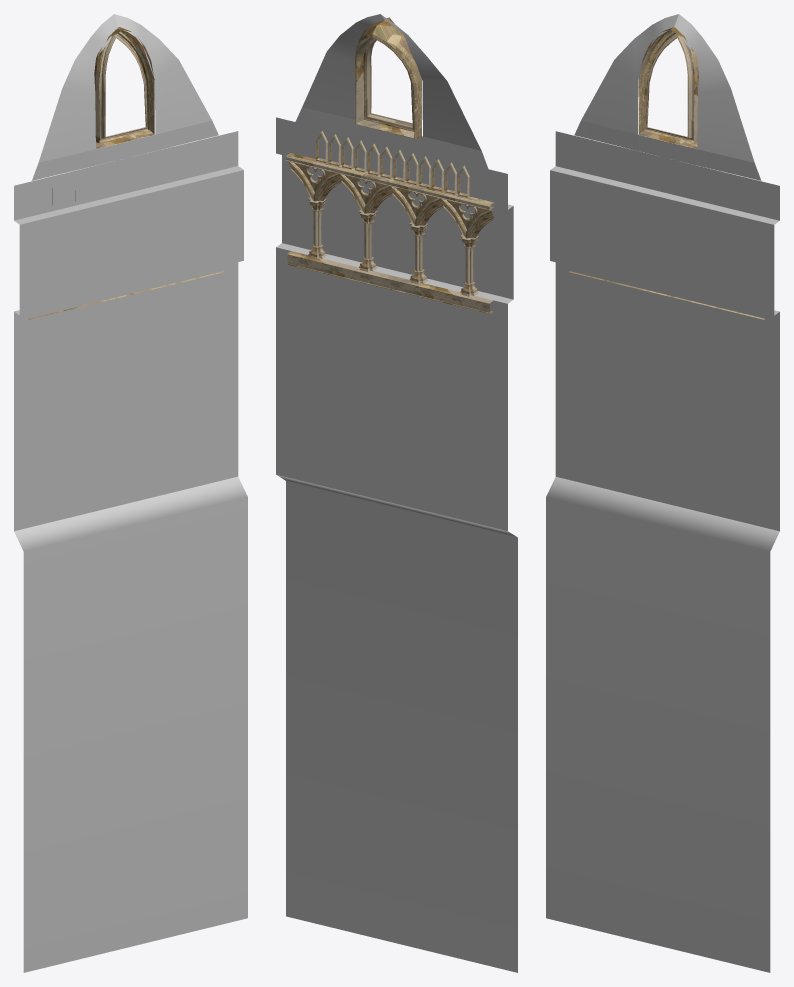
File: SM_wall_02.fbx
3 views of the same model, side by side, from view 1: azimuth 30°, elevation 25°; view 2: azimuth 150°, elevation 25°; view 3: azimuth 330°, elevation 25° (orthographic). The views are drawn at different scales.
Visible parts, largest first — view 1: polySurface32424; view 2: polySurface32424; view 3: polySurface32424.
Part boxes in pixels (x1,y1,x2,y2): polySurface32424: (14, 14, 247, 972); polySurface32424: (276, 14, 517, 972); polySurface32424: (546, 14, 779, 972).
Size of the model in its own units: 24.16 by 94.28 by 5.42.
